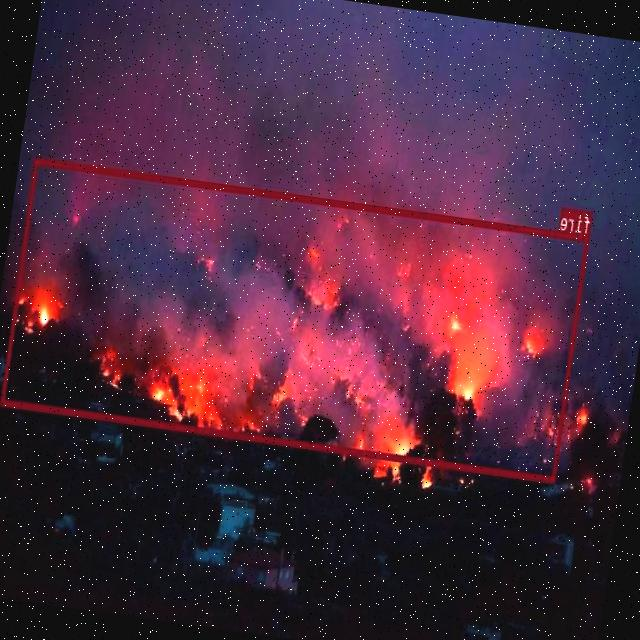fire: (2, 156, 591, 482)
